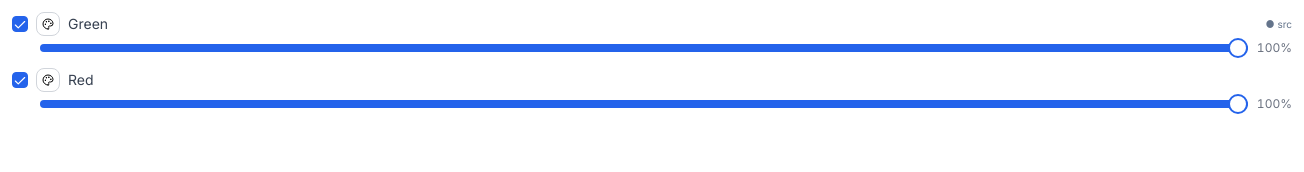
ChannelOverlayList › rename mode › enters rename mode on double-click when containerId is present
Double-click the button "Green" at (88, 24), box top-left (68, 14), bottom-right (1230, 34)
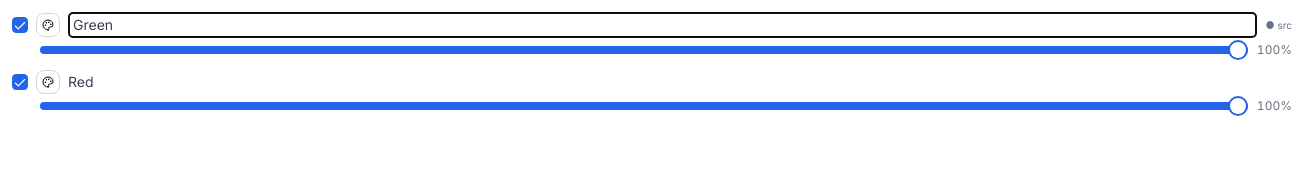
Result: the field is shown at top-left (68, 12), bottom-right (1258, 38)
